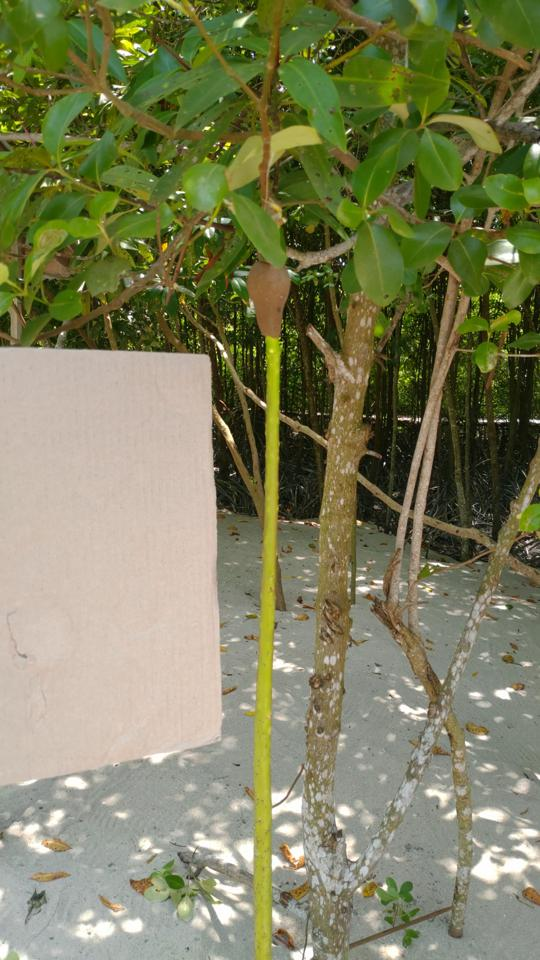mentah: (242, 253, 300, 959)
